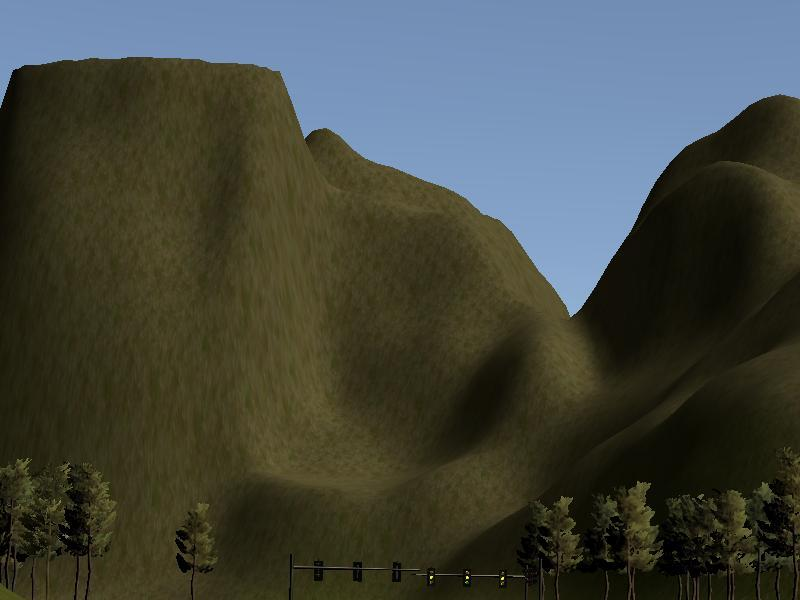Yellow: (462, 566, 471, 588), (427, 566, 435, 587), (498, 569, 506, 589)
